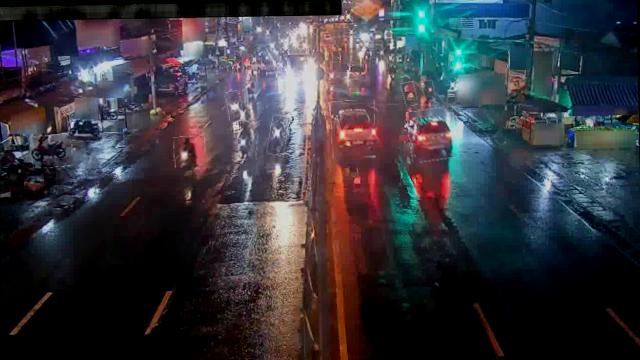Bike: (31, 133, 72, 168), (173, 136, 206, 170), (70, 118, 104, 142), (268, 114, 288, 154), (238, 121, 258, 159), (226, 90, 243, 121), (246, 81, 260, 107), (402, 82, 417, 106), (422, 80, 435, 100)
Car: (407, 106, 457, 162), (330, 100, 376, 158)
